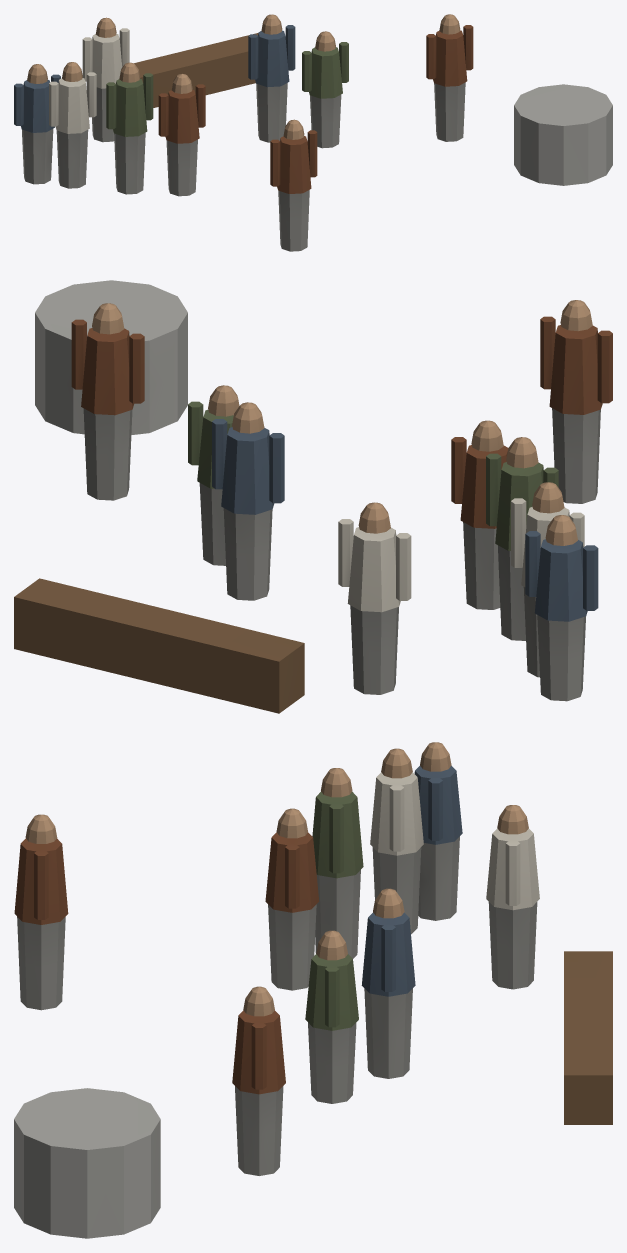
The model's file is crowd.glb.
3 renders of one model, top to bottom at view 1: azimuth 30°, elevation 25°; view 2: azimuth 150°, elevation 25°; view 3: azimuth 270°, elevation 25°, orthographic. The views are drawn at different scales.
Visible parts, largest first — view 1: base; view 2: base; view 3: base.
Boxes of the visible parts, <box> form: base: <box>14,14,612,251</box>; base: <box>14,280,612,713</box>; base: <box>14,742,612,1238</box>.
Bounding box in the file's own units: 6.63 × 1.69 × 4.9.
